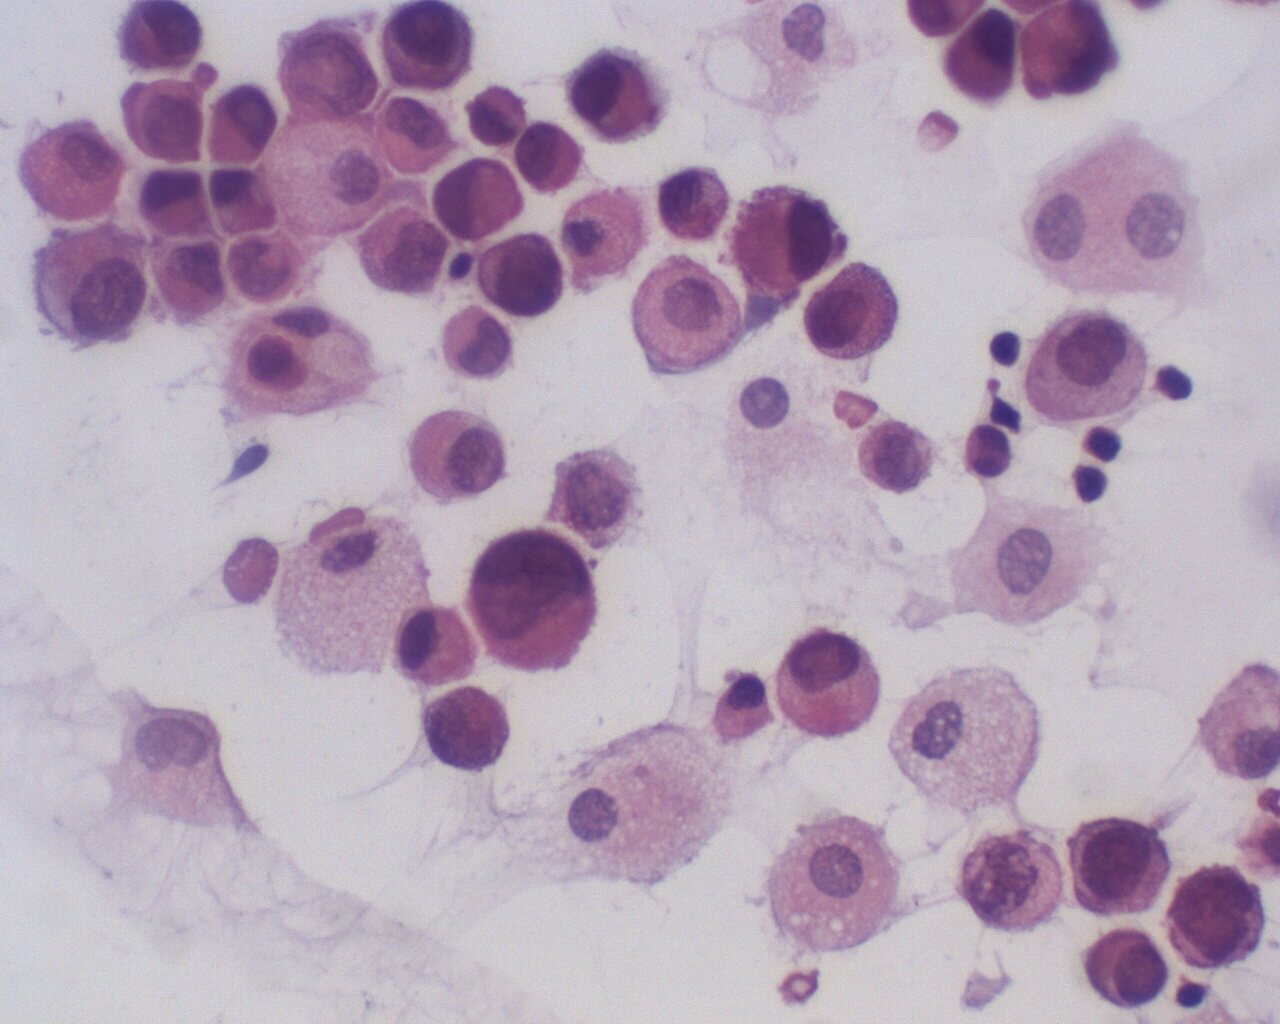ab: (465, 529, 625, 683), (34, 220, 154, 354), (769, 623, 887, 740), (1064, 810, 1182, 925), (1170, 856, 1273, 973), (415, 676, 526, 783), (376, 1, 482, 99), (802, 257, 900, 362), (1075, 918, 1171, 1013), (473, 231, 574, 320), (430, 155, 531, 241), (113, 69, 204, 160), (110, 1, 204, 75), (201, 82, 278, 166), (514, 119, 588, 197)
histo: (879, 653, 1046, 815), (759, 812, 905, 958)
lymph: (987, 326, 1027, 371)
